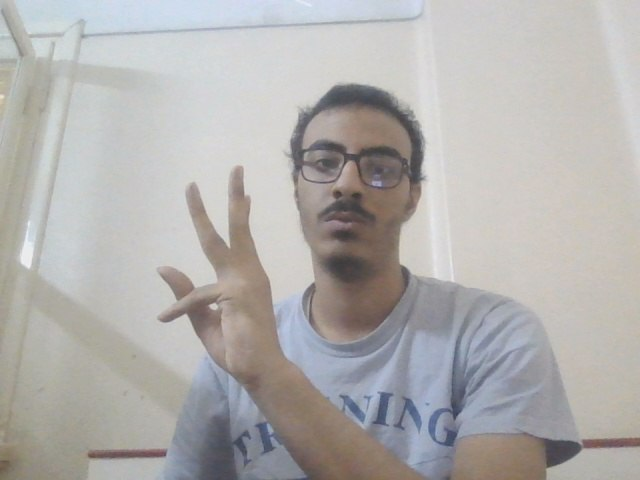Water: (152, 164, 292, 389)
